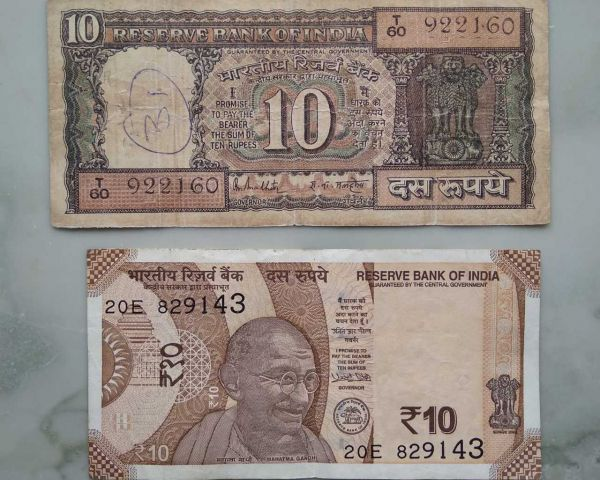ten_rupees_note: (46, 1, 551, 225), (84, 248, 542, 480)
